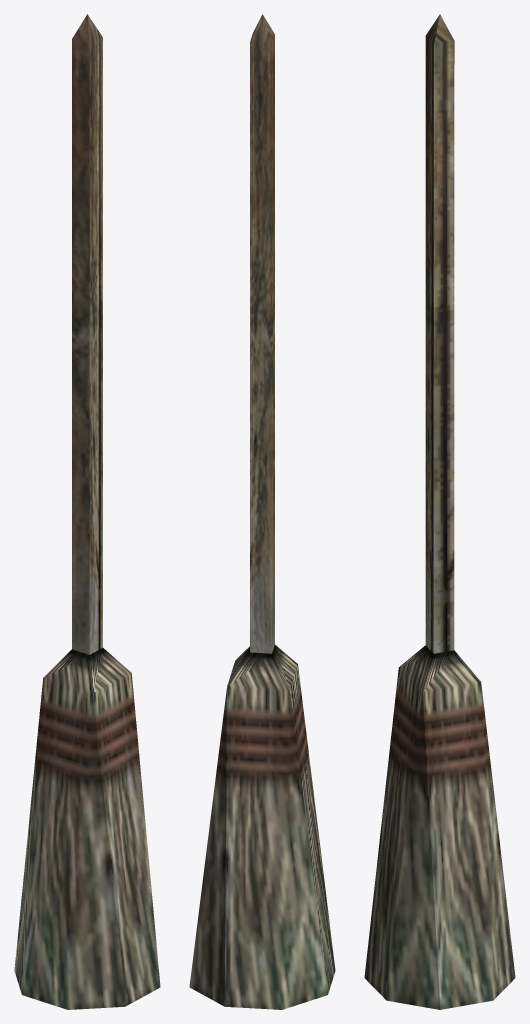
File: metla1.glb
The picture shows the model from 3 angles, left to right: view 1: azimuth 30°, elevation 25°; view 2: azimuth 150°, elevation 25°; view 3: azimuth 270°, elevation 25°; orthographic projection.
Parts seen in each view (by area): view 1: metla1; view 2: metla1; view 3: metla1.
Part boxes in pixels (x1,y1,x2,y2): metla1: (14, 14, 160, 1009); metla1: (189, 14, 335, 1009); metla1: (364, 14, 515, 1009).
Size of the model in its own units: 0.253 by 1.83 by 0.253.
Materials: 2 (2 with a texture image).
